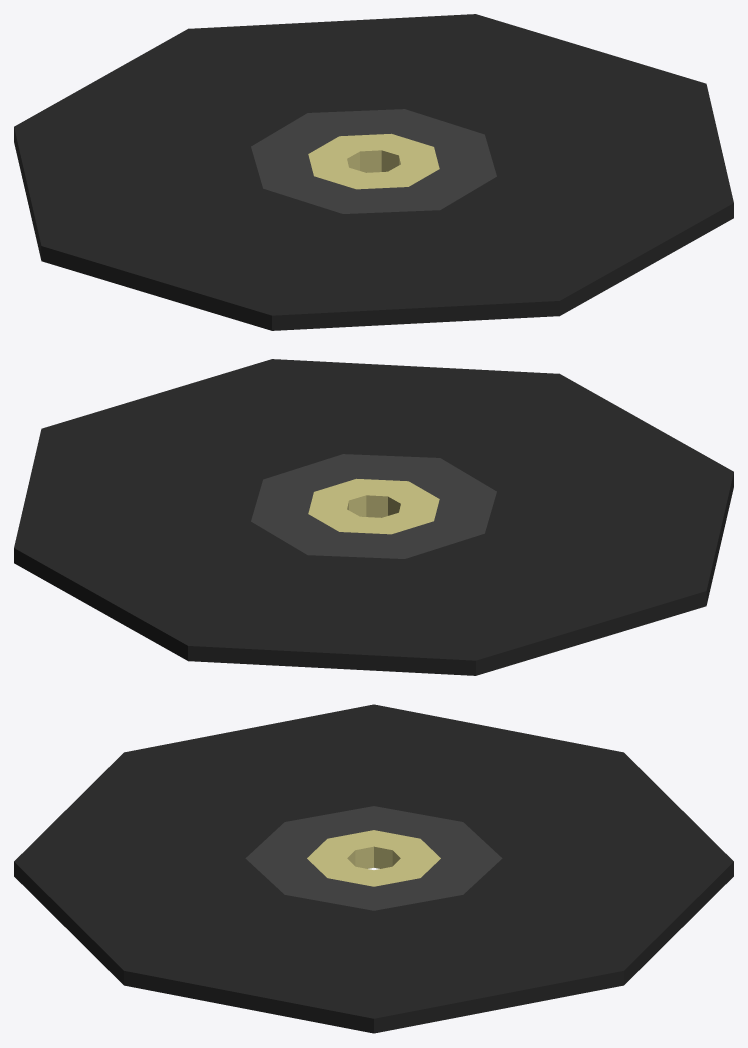
Rendered from Record.fbx.
3 renders of one model, top to bottom at view 1: azimuth 30°, elevation 25°; view 2: azimuth 150°, elevation 25°; view 3: azimuth 270°, elevation 25°, orthographic. The views are drawn at different scales.
Visible parts, largest first — view 1: Record; view 2: Record; view 3: Record.
Part boxes in pixels (x1,y1,x2,y2): Record: [14, 14, 733, 330]; Record: [14, 359, 733, 675]; Record: [14, 704, 733, 1033].
Bounding box in the file's own units: 431 × 13.5 × 417.
